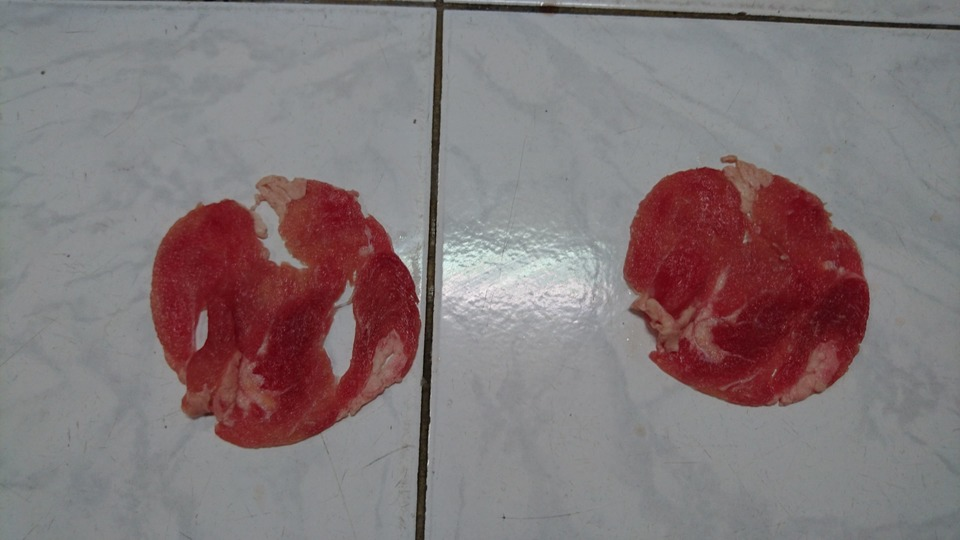restructured meat: (119, 170, 431, 443), (603, 146, 887, 417)
